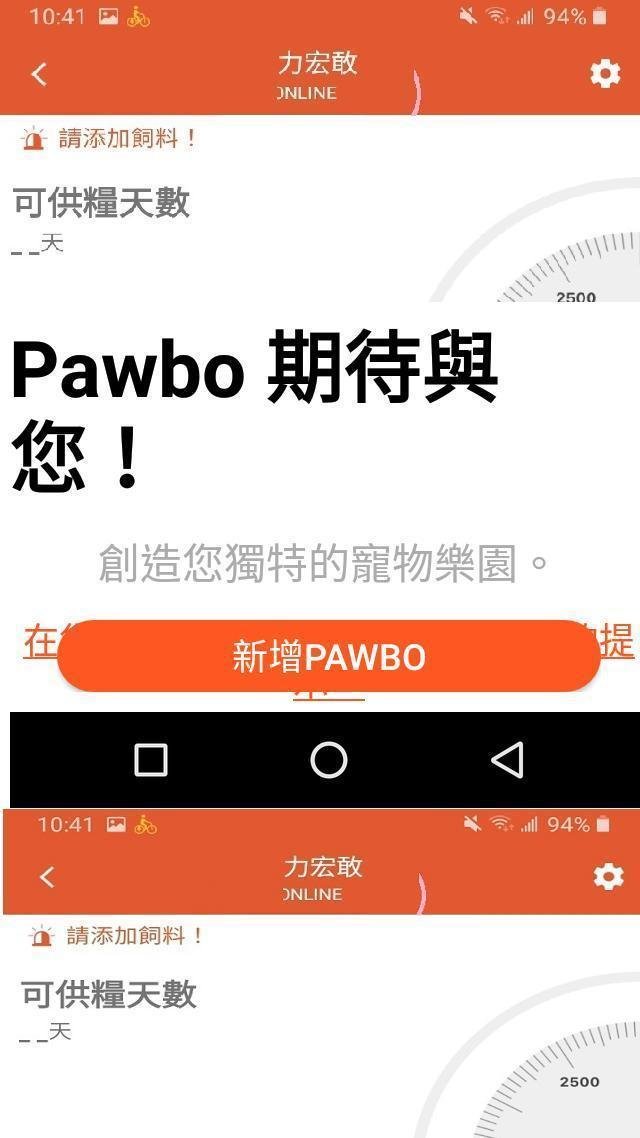Icon: (311, 739, 350, 780), (488, 738, 524, 781), (134, 740, 170, 779), (590, 57, 624, 93), (592, 864, 626, 896), (30, 864, 66, 894), (29, 59, 54, 88)
Image: (28, 923, 59, 950), (21, 126, 49, 154)
Text: (226, 635, 431, 675), (62, 920, 216, 952), (275, 48, 364, 80), (281, 854, 366, 879), (268, 82, 344, 108), (278, 885, 347, 906), (554, 286, 602, 312)
TextButton: (54, 619, 602, 693)
WS1: (10, 606, 95, 704), (545, 603, 638, 685)
